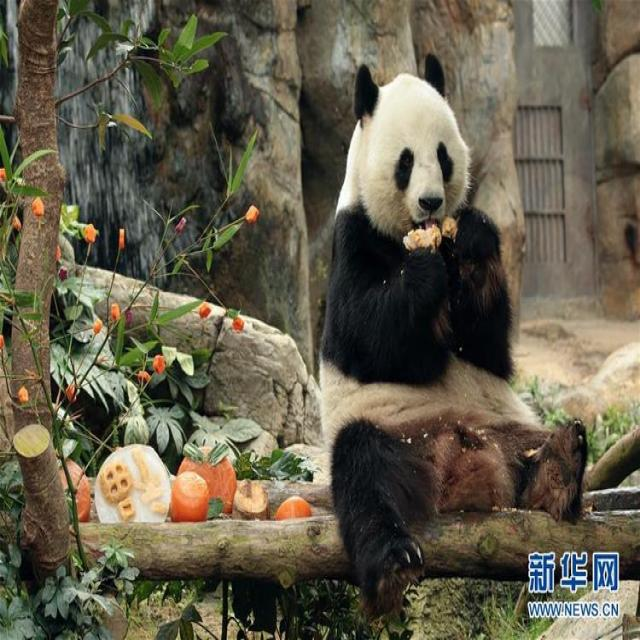panda: (309, 42, 579, 558)
